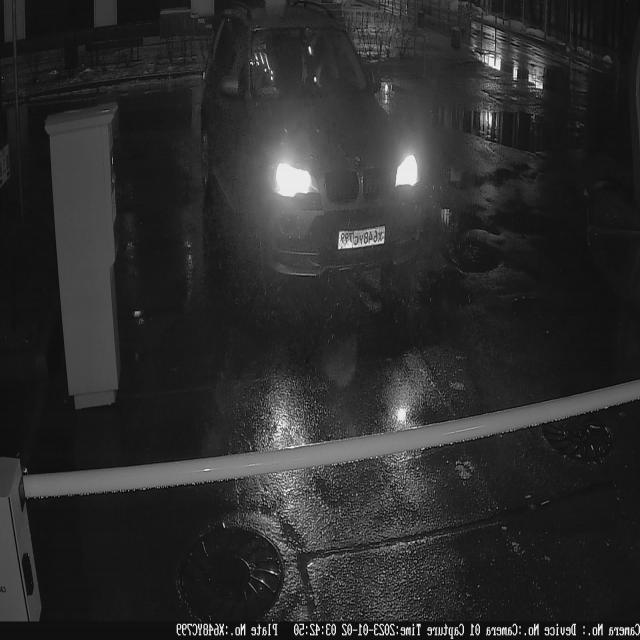car-plate-numbers: (337, 223, 389, 255)
